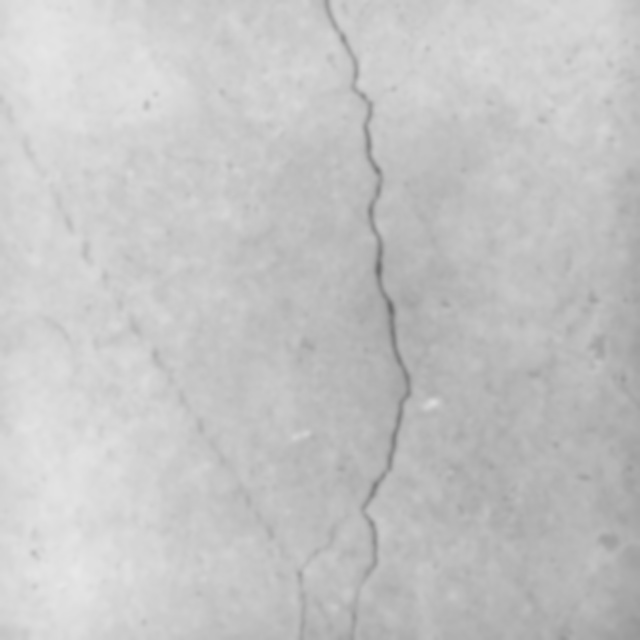SurfaceCrack: (0, 1, 299, 640), (281, 0, 445, 640)
